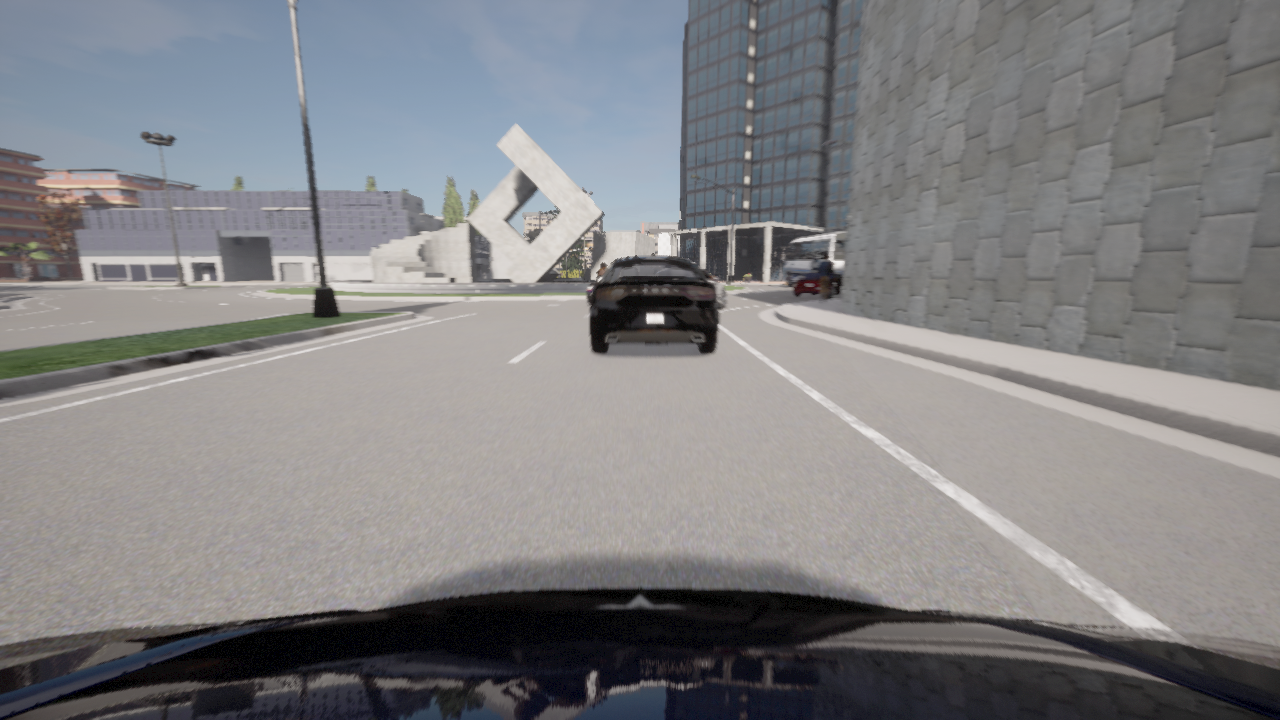cyclist: (0, 588, 1279, 719), (589, 253, 718, 352), (781, 231, 845, 286), (792, 270, 842, 297), (699, 267, 725, 307), (587, 283, 594, 304)
pedestrian: (816, 253, 835, 302)
